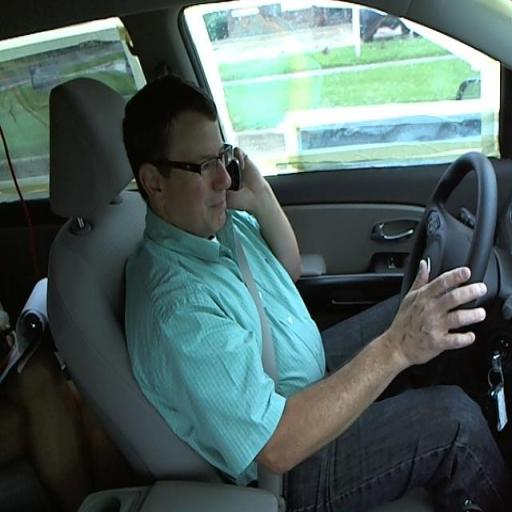talking_phone: (118, 155, 458, 449)
